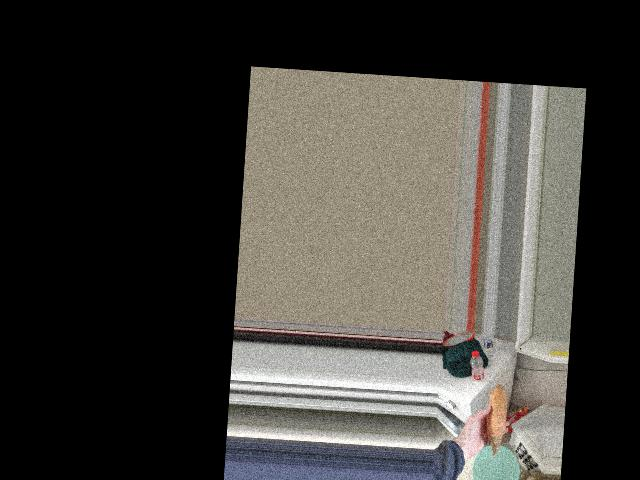sweet_potato: (486, 393, 504, 446)
